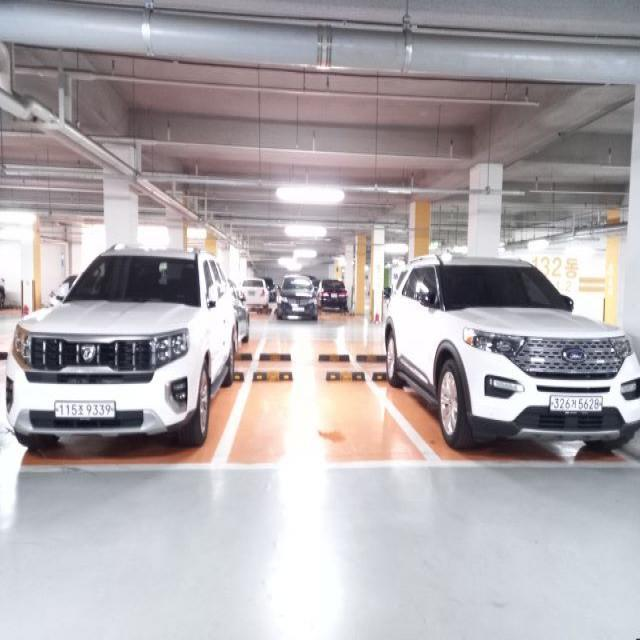Car: (382, 253, 640, 457), (11, 238, 224, 456)
Vacant: (224, 355, 431, 460)
